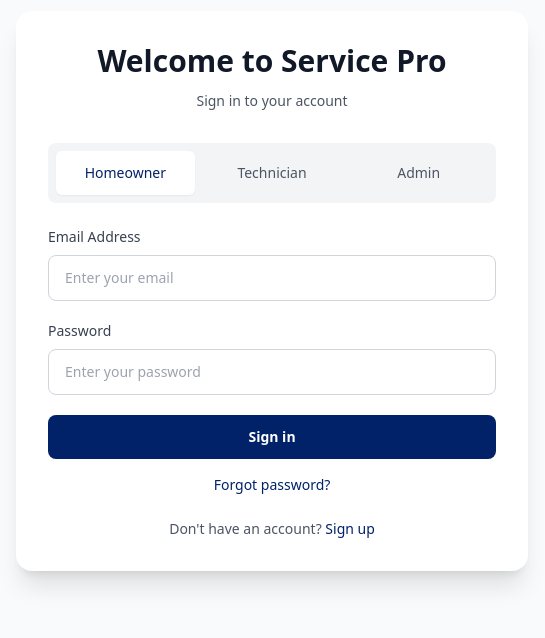
Login.jsx › shows error if login API returns error
This screenshot has width=545, height=638.
In the field labelled "Email Address": (272, 278) [48,255,496,301], type "test@example.com"
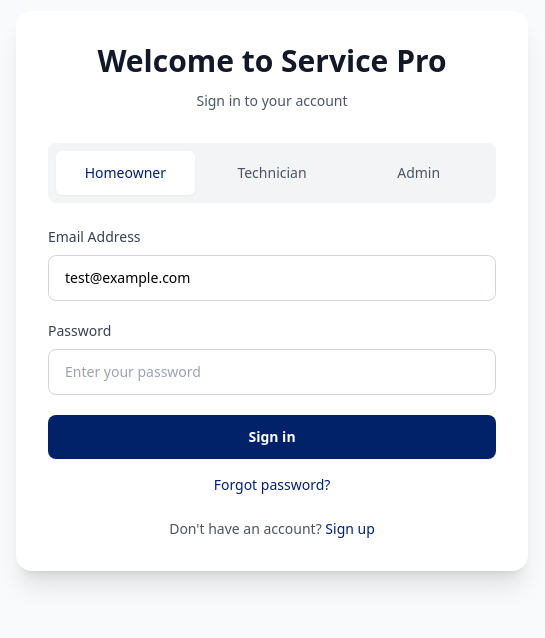
In the password field labelled "Password": (272, 372) [48,349,496,395], type "password"
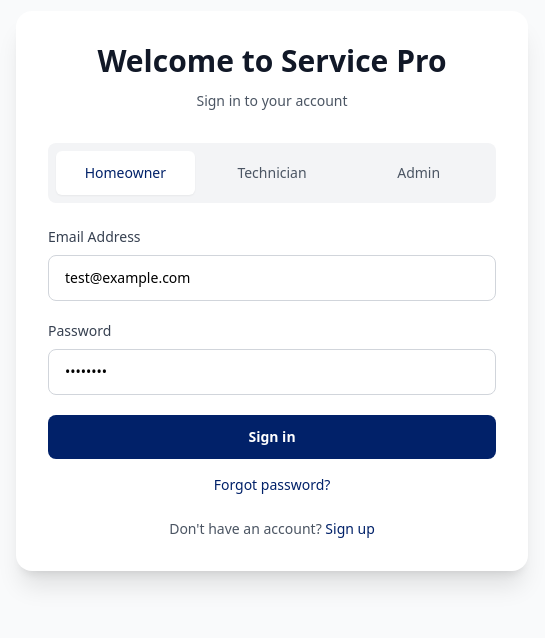
Click the button "Sign in": (272, 437) [48,415,496,459]
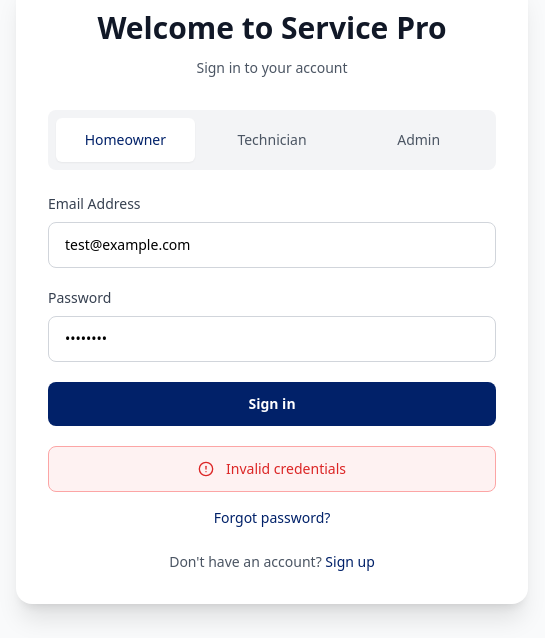
Check: the text "Invalid credentials" is shown, box [226,459,346,479]
